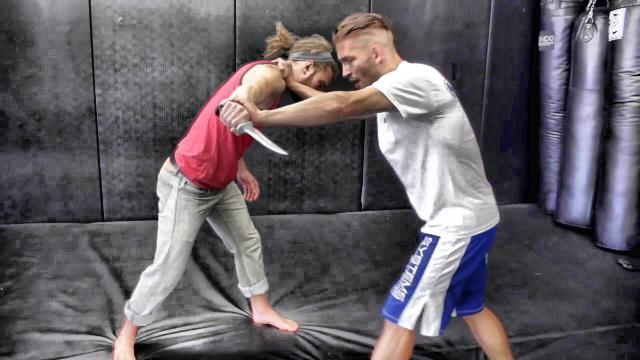knife: (212, 99, 292, 161)
